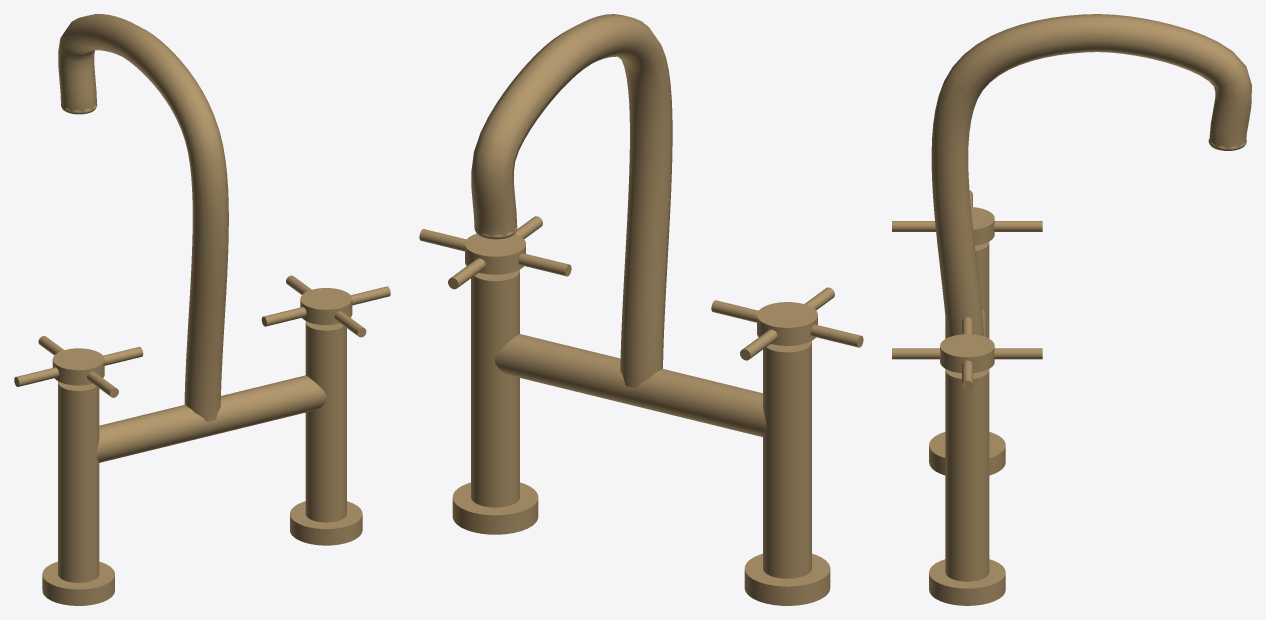
File: cabinet-bridge-tap.glb
The picture shows the model from 3 angles, left to right: view 1: azimuth 30°, elevation 25°; view 2: azimuth 150°, elevation 25°; view 3: azimuth 270°, elevation 25°; orthographic projection. The views are drawn at different scales.
Visible parts, largest first — view 1: bronze_surfaces; view 2: bronze_surfaces; view 3: bronze_surfaces.
Boxes of the visible parts, box(x1,y1,x2,y2) form: bronze_surfaces: box(14, 14, 390, 605); bronze_surfaces: box(419, 14, 863, 605); bronze_surfaces: box(892, 14, 1251, 605).
Size of the model in its own units: 0.33 by 0.4104 by 0.2626.
